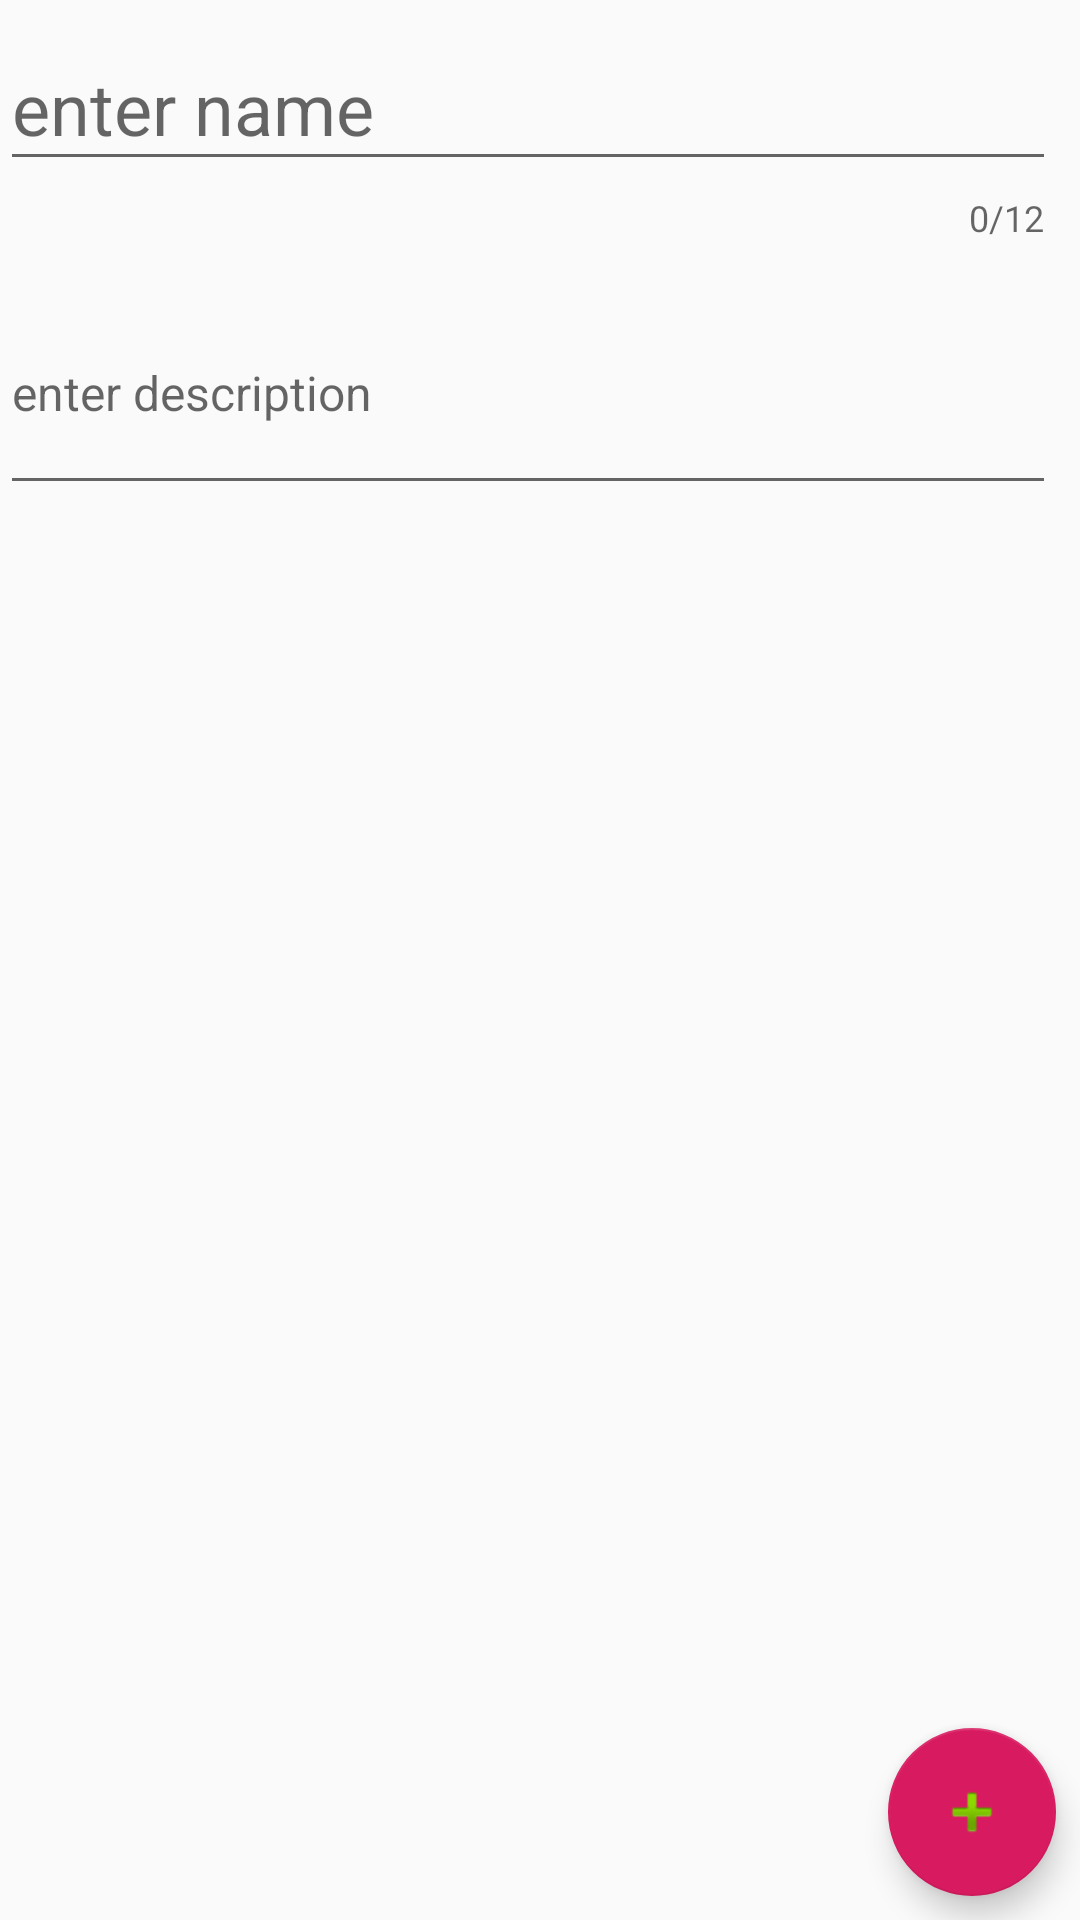

Icon bounding boxes for this 1080px x 1920px phone screenshot, format box(x1, y1, x2, y2):
add: box(888, 1728, 1056, 1896)
